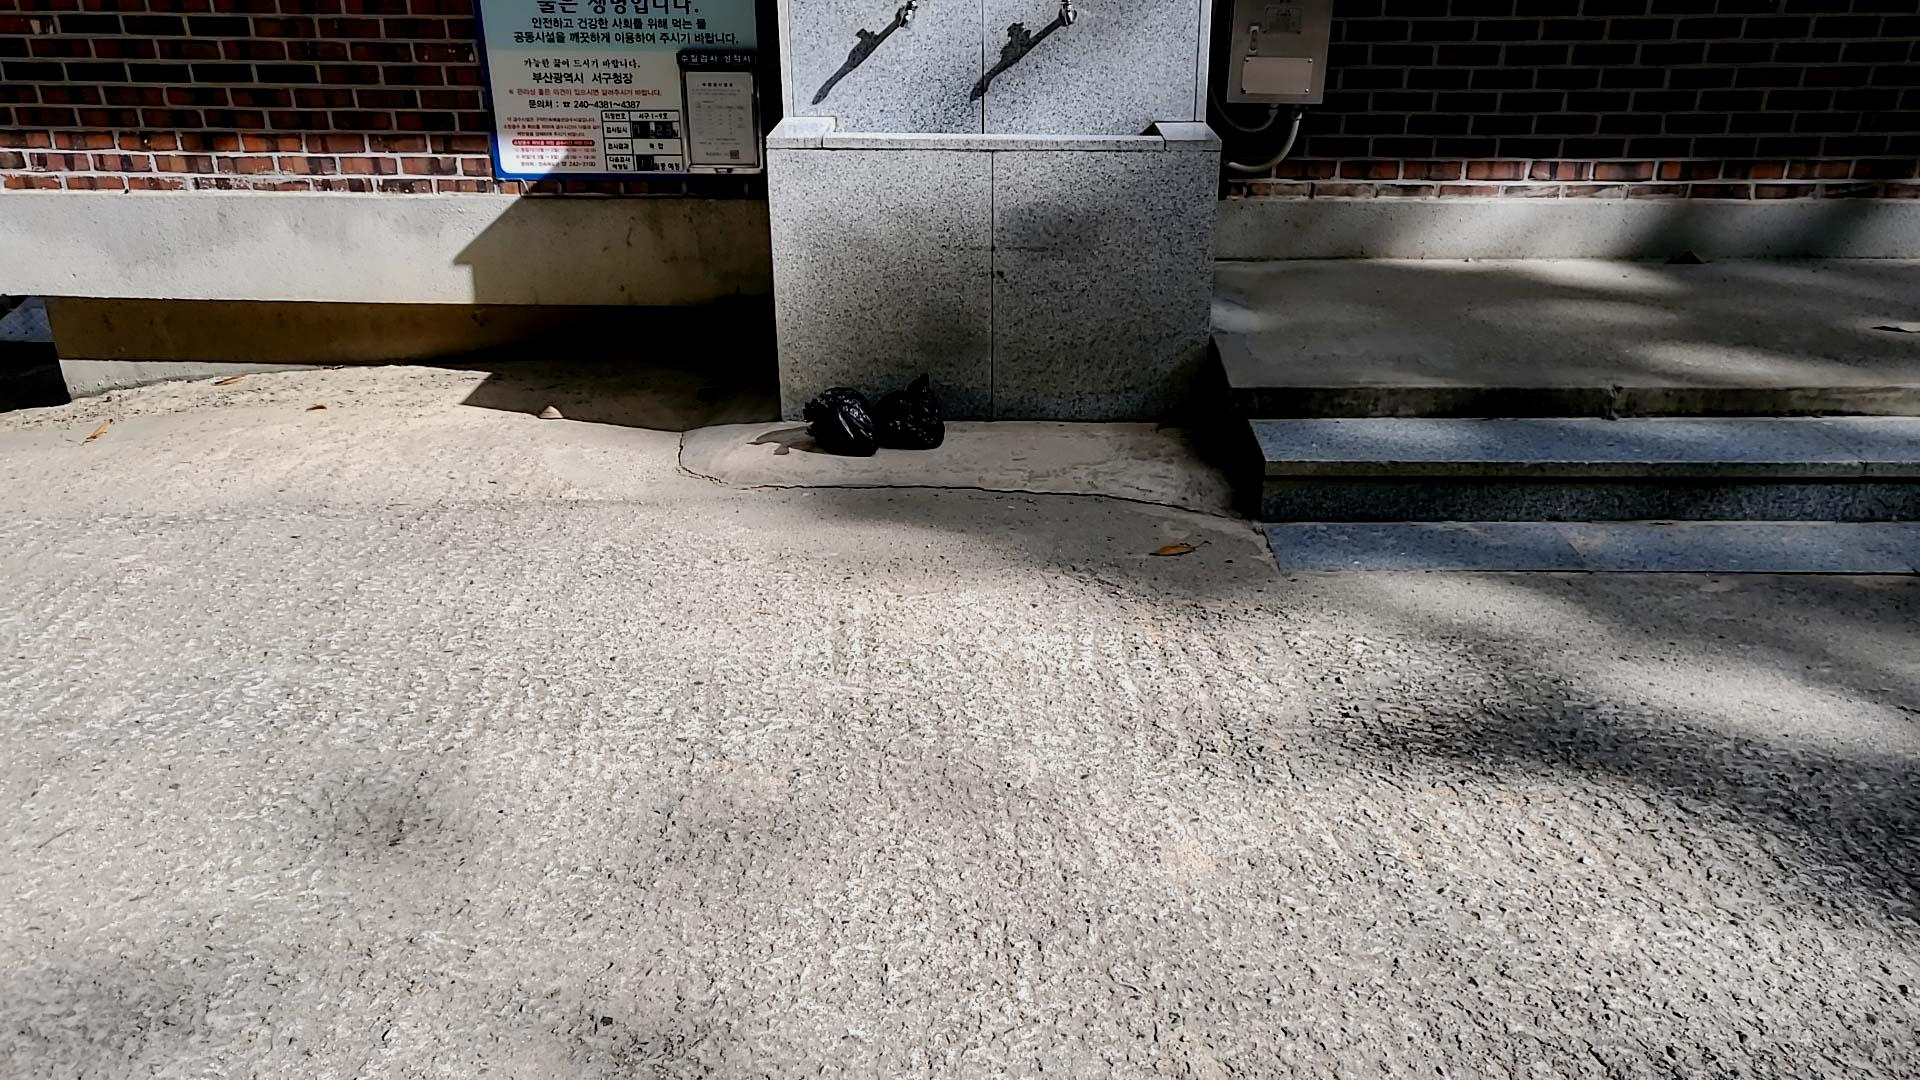black_bag: (795, 382, 882, 460), (869, 365, 947, 451)
